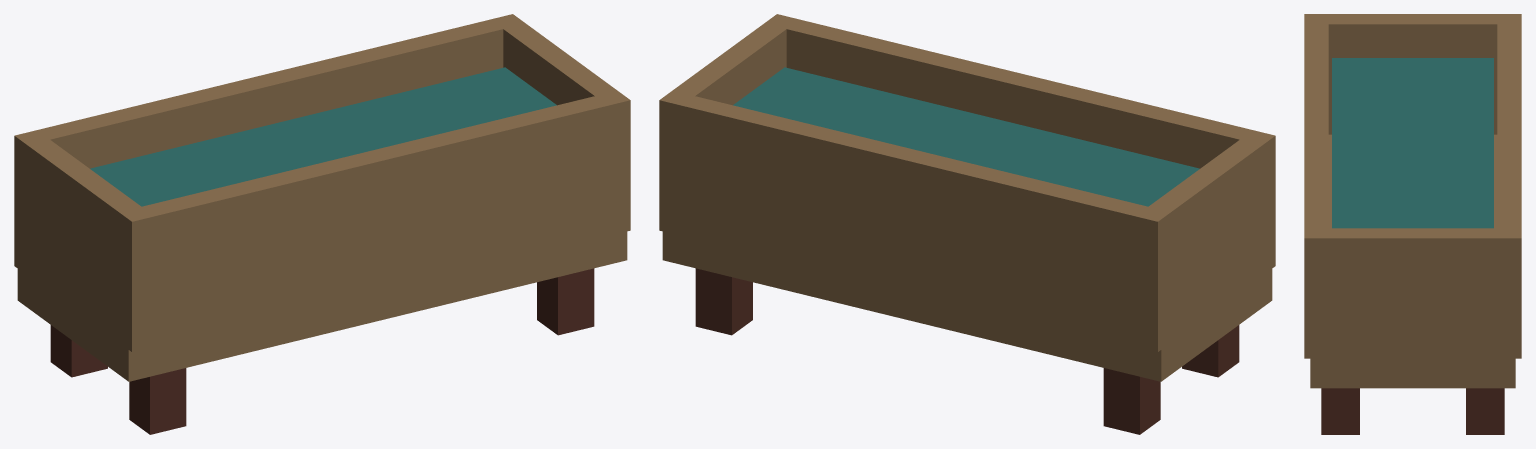
The picture shows the model from 3 angles, left to right: view 1: azimuth 30°, elevation 25°; view 2: azimuth 150°, elevation 25°; view 3: azimuth 270°, elevation 25°; orthographic projection. The views are drawn at different scales.
Visible parts, largest first — view 1: root_pal_khakiSeam, root_pal_backpackTeal, root_pal_hairBrown; view 2: root_pal_khakiSeam, root_pal_backpackTeal, root_pal_hairBrown; view 3: root_pal_khakiSeam, root_pal_backpackTeal, root_pal_hairBrown.
Boxes of the visible parts, left/top/right/bottom form: root_pal_khakiSeam: left=14, top=14, right=630, bottom=381; root_pal_backpackTeal: left=90, top=67, right=556, bottom=206; root_pal_hairBrown: left=50, top=268, right=594, bottom=434; root_pal_khakiSeam: left=659, top=14, right=1275, bottom=381; root_pal_backpackTeal: left=733, top=67, right=1199, bottom=206; root_pal_hairBrown: left=695, top=268, right=1239, bottom=434; root_pal_khakiSeam: left=1304, top=14, right=1521, bottom=388; root_pal_backpackTeal: left=1332, top=58, right=1493, bottom=228; root_pal_hairBrown: left=1321, top=388, right=1504, bottom=434.
Bounding box in the file's own units: 2.2 × 0.955 × 0.9.
